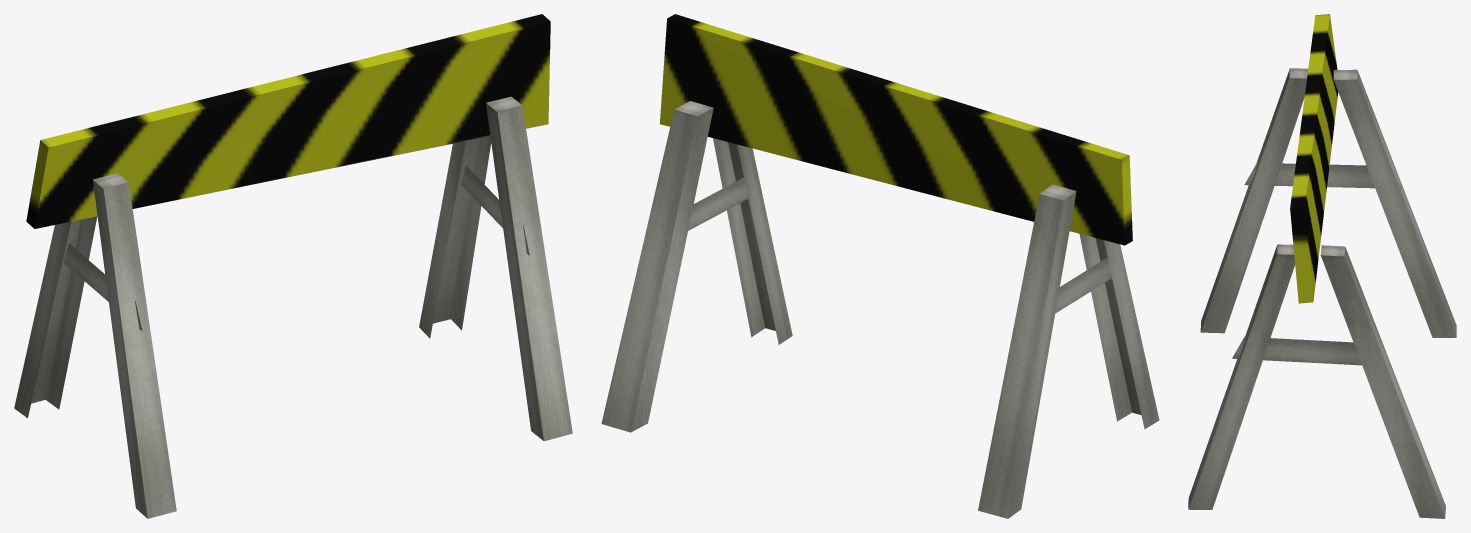
Rendered from Beach_Bloker.FBX.
The picture shows the model from 3 angles, left to right: view 1: azimuth 30°, elevation 25°; view 2: azimuth 150°, elevation 25°; view 3: azimuth 270°, elevation 25°; orthographic projection. The views are drawn at different scales.
Parts seen in each view (by area): view 1: SawHorse02; view 2: SawHorse02; view 3: SawHorse02.
Part boxes in pixels (x1,y1,x2,y2): SawHorse02: [14, 14, 572, 518]; SawHorse02: [601, 14, 1159, 518]; SawHorse02: [1188, 14, 1456, 518].
Size of the model in its own units: 257 by 179 by 136.
